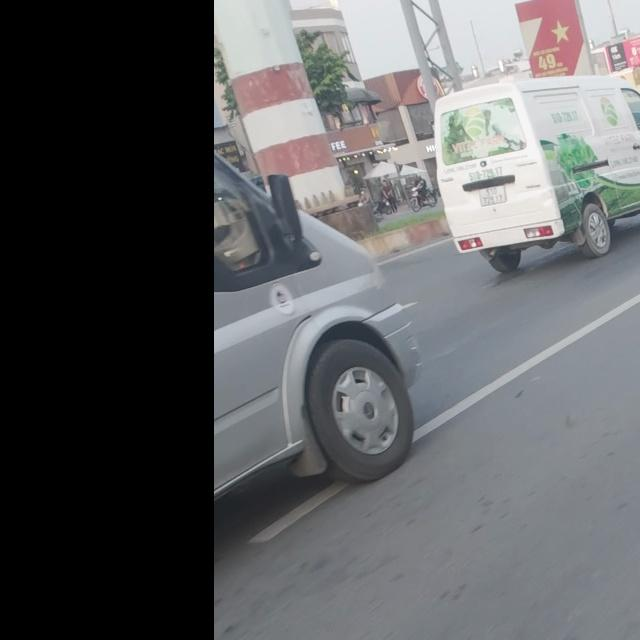license-plate: (479, 185, 506, 206)
